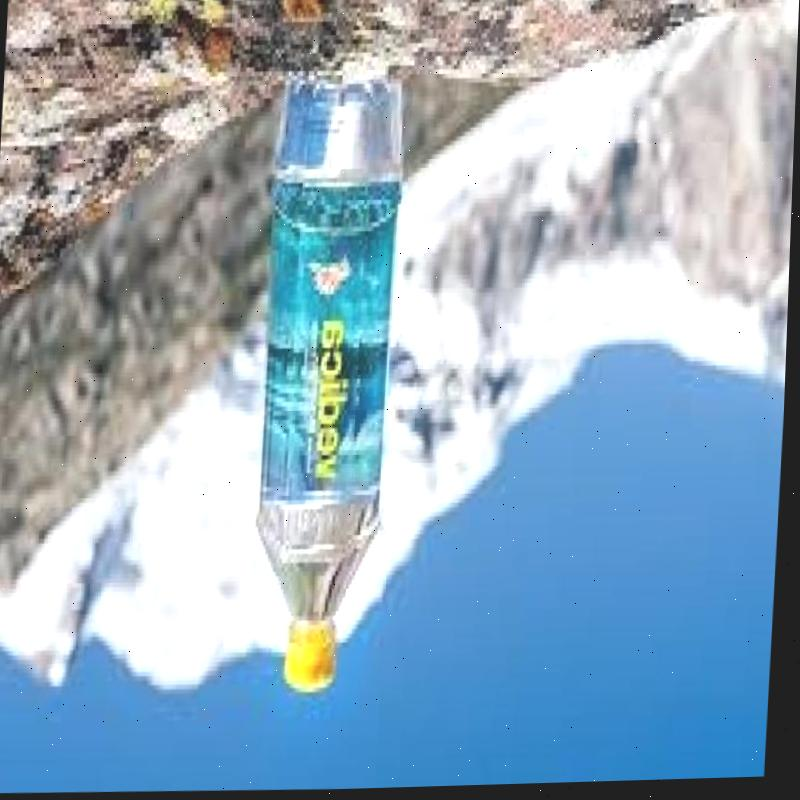botella: (249, 72, 407, 696)
